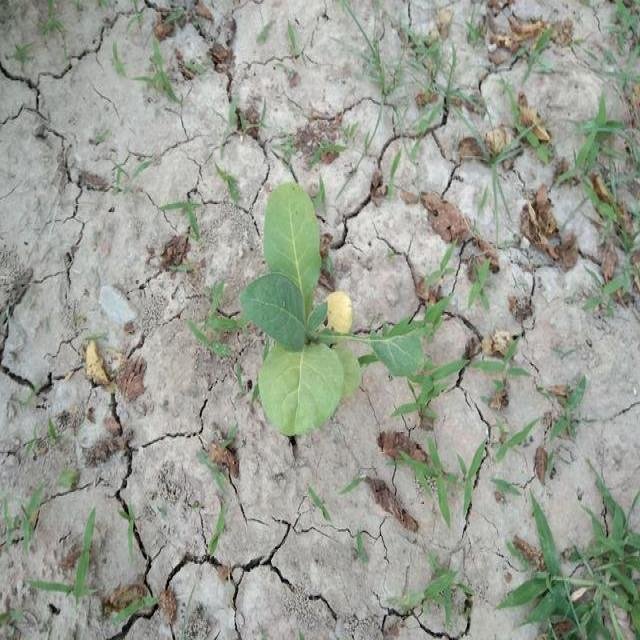crop: (245, 180, 433, 434)
